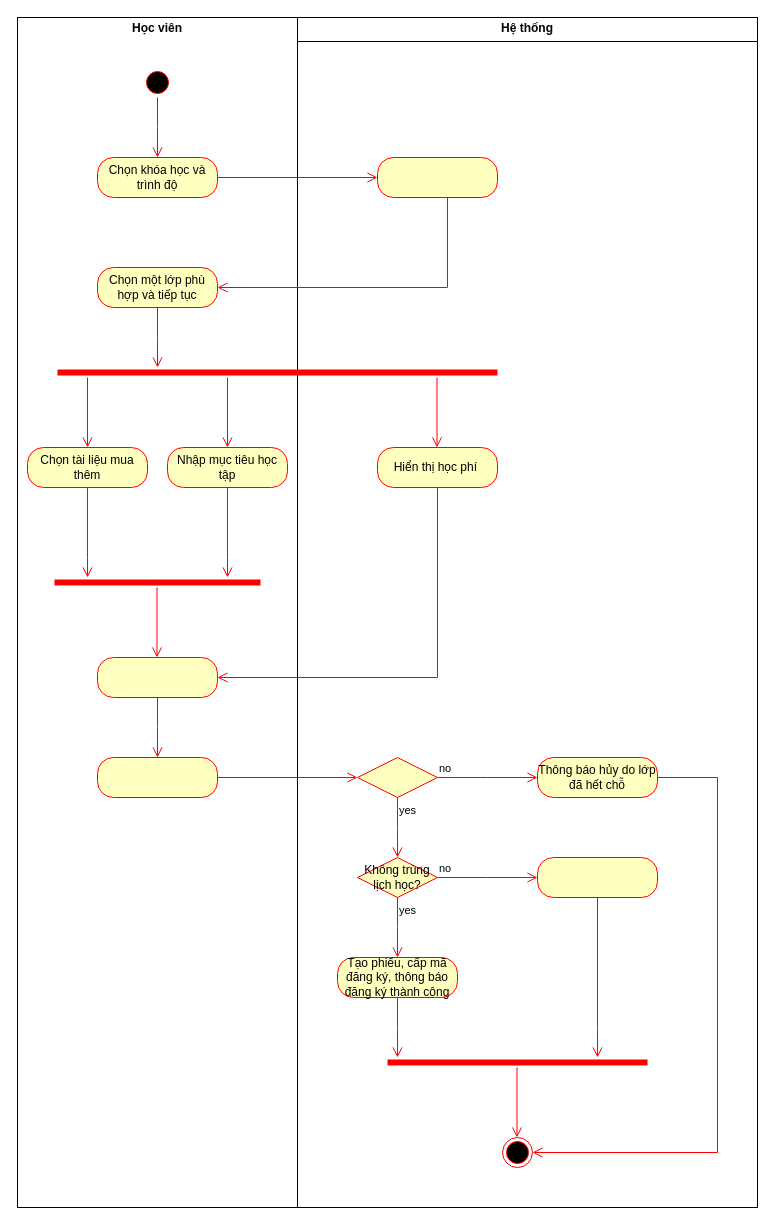
This 775x1225 diagram has some shape labels left out. Each missing label, with the box of its shape:
Bấm xác nhận đăng ký: (96, 756, 218, 798)
Hiển thị các lớp sắp khai giản tương ứng: (376, 156, 498, 198)
lớp còn chỗ?: (356, 756, 438, 798)
Thông báo hủy do trùng lịch học: (536, 856, 658, 898)
Xem học phí: (96, 656, 218, 698)
